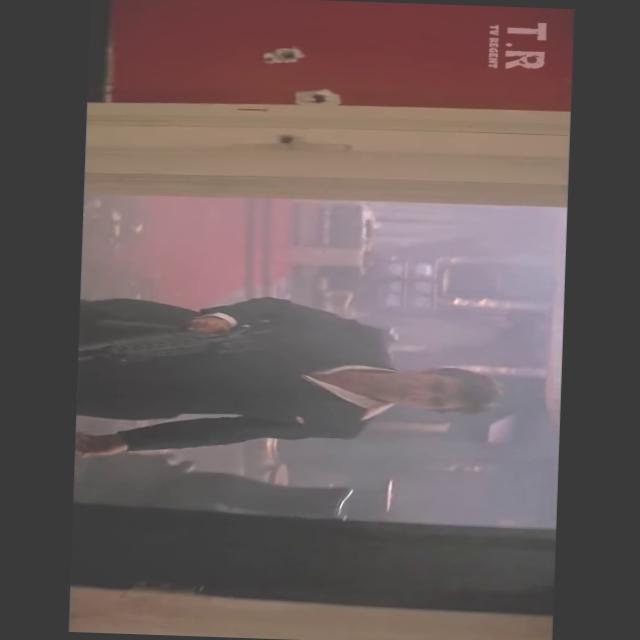long weapon: (38, 298, 301, 396)
